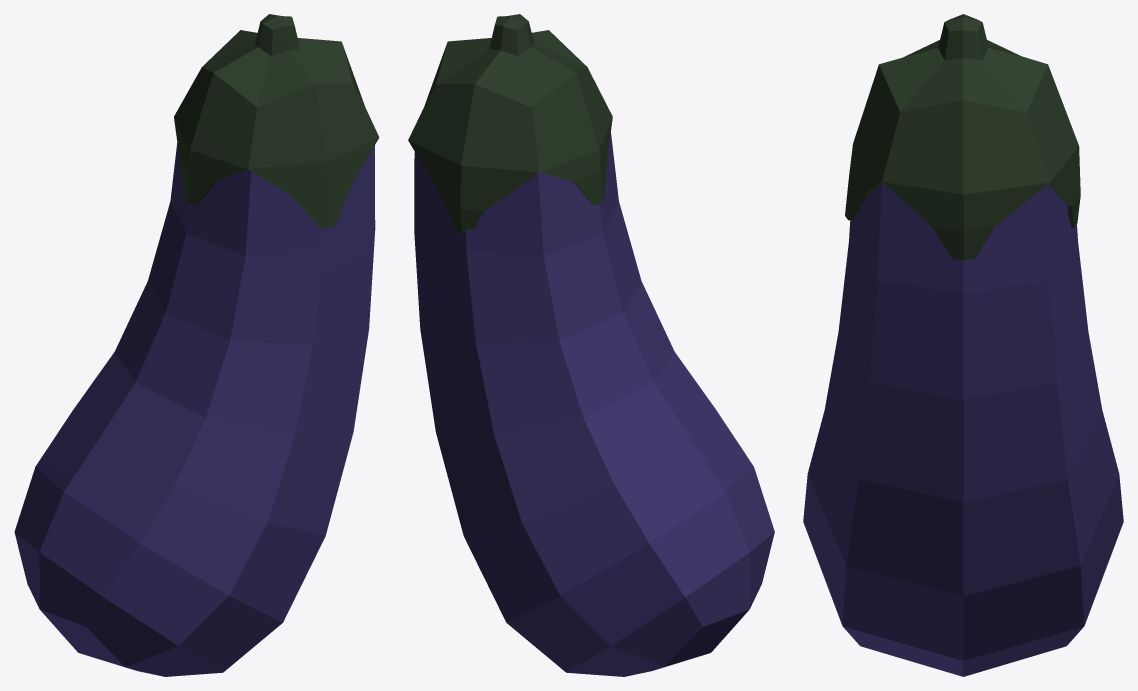
File: food-Eggplant.glb
3 views of the same model, side by side, from view 1: azimuth 30°, elevation 25°; view 2: azimuth 150°, elevation 25°; view 3: azimuth 270°, elevation 25° (orthographic). The views are drawn at different scales.
Visible parts, largest first — view 1: Eggplant; view 2: Eggplant; view 3: Eggplant.
Part boxes in pixels (x1,y1,x2,y2): Eggplant: (14, 14, 379, 676); Eggplant: (408, 14, 774, 676); Eggplant: (803, 14, 1123, 676).
Bounding box in the file's own units: 0.9623 × 1.75 × 0.718.
